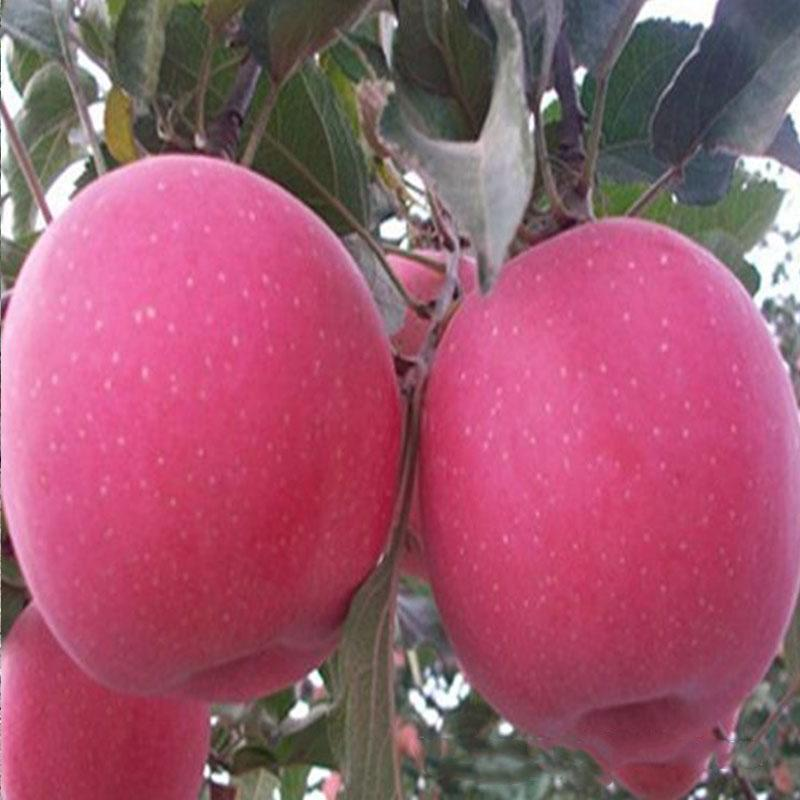apple: (3, 155, 404, 710), (400, 214, 800, 770), (1, 601, 210, 800)
